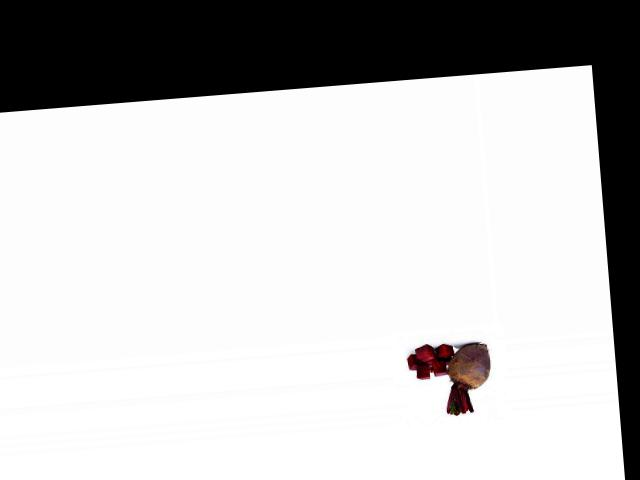beet: (441, 341, 493, 415)
